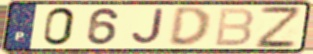0: (41, 6, 77, 48)
6: (85, 7, 121, 47)
B: (213, 7, 256, 48)
D: (167, 6, 213, 49)
J: (130, 8, 166, 47)
Z: (254, 5, 301, 50)
